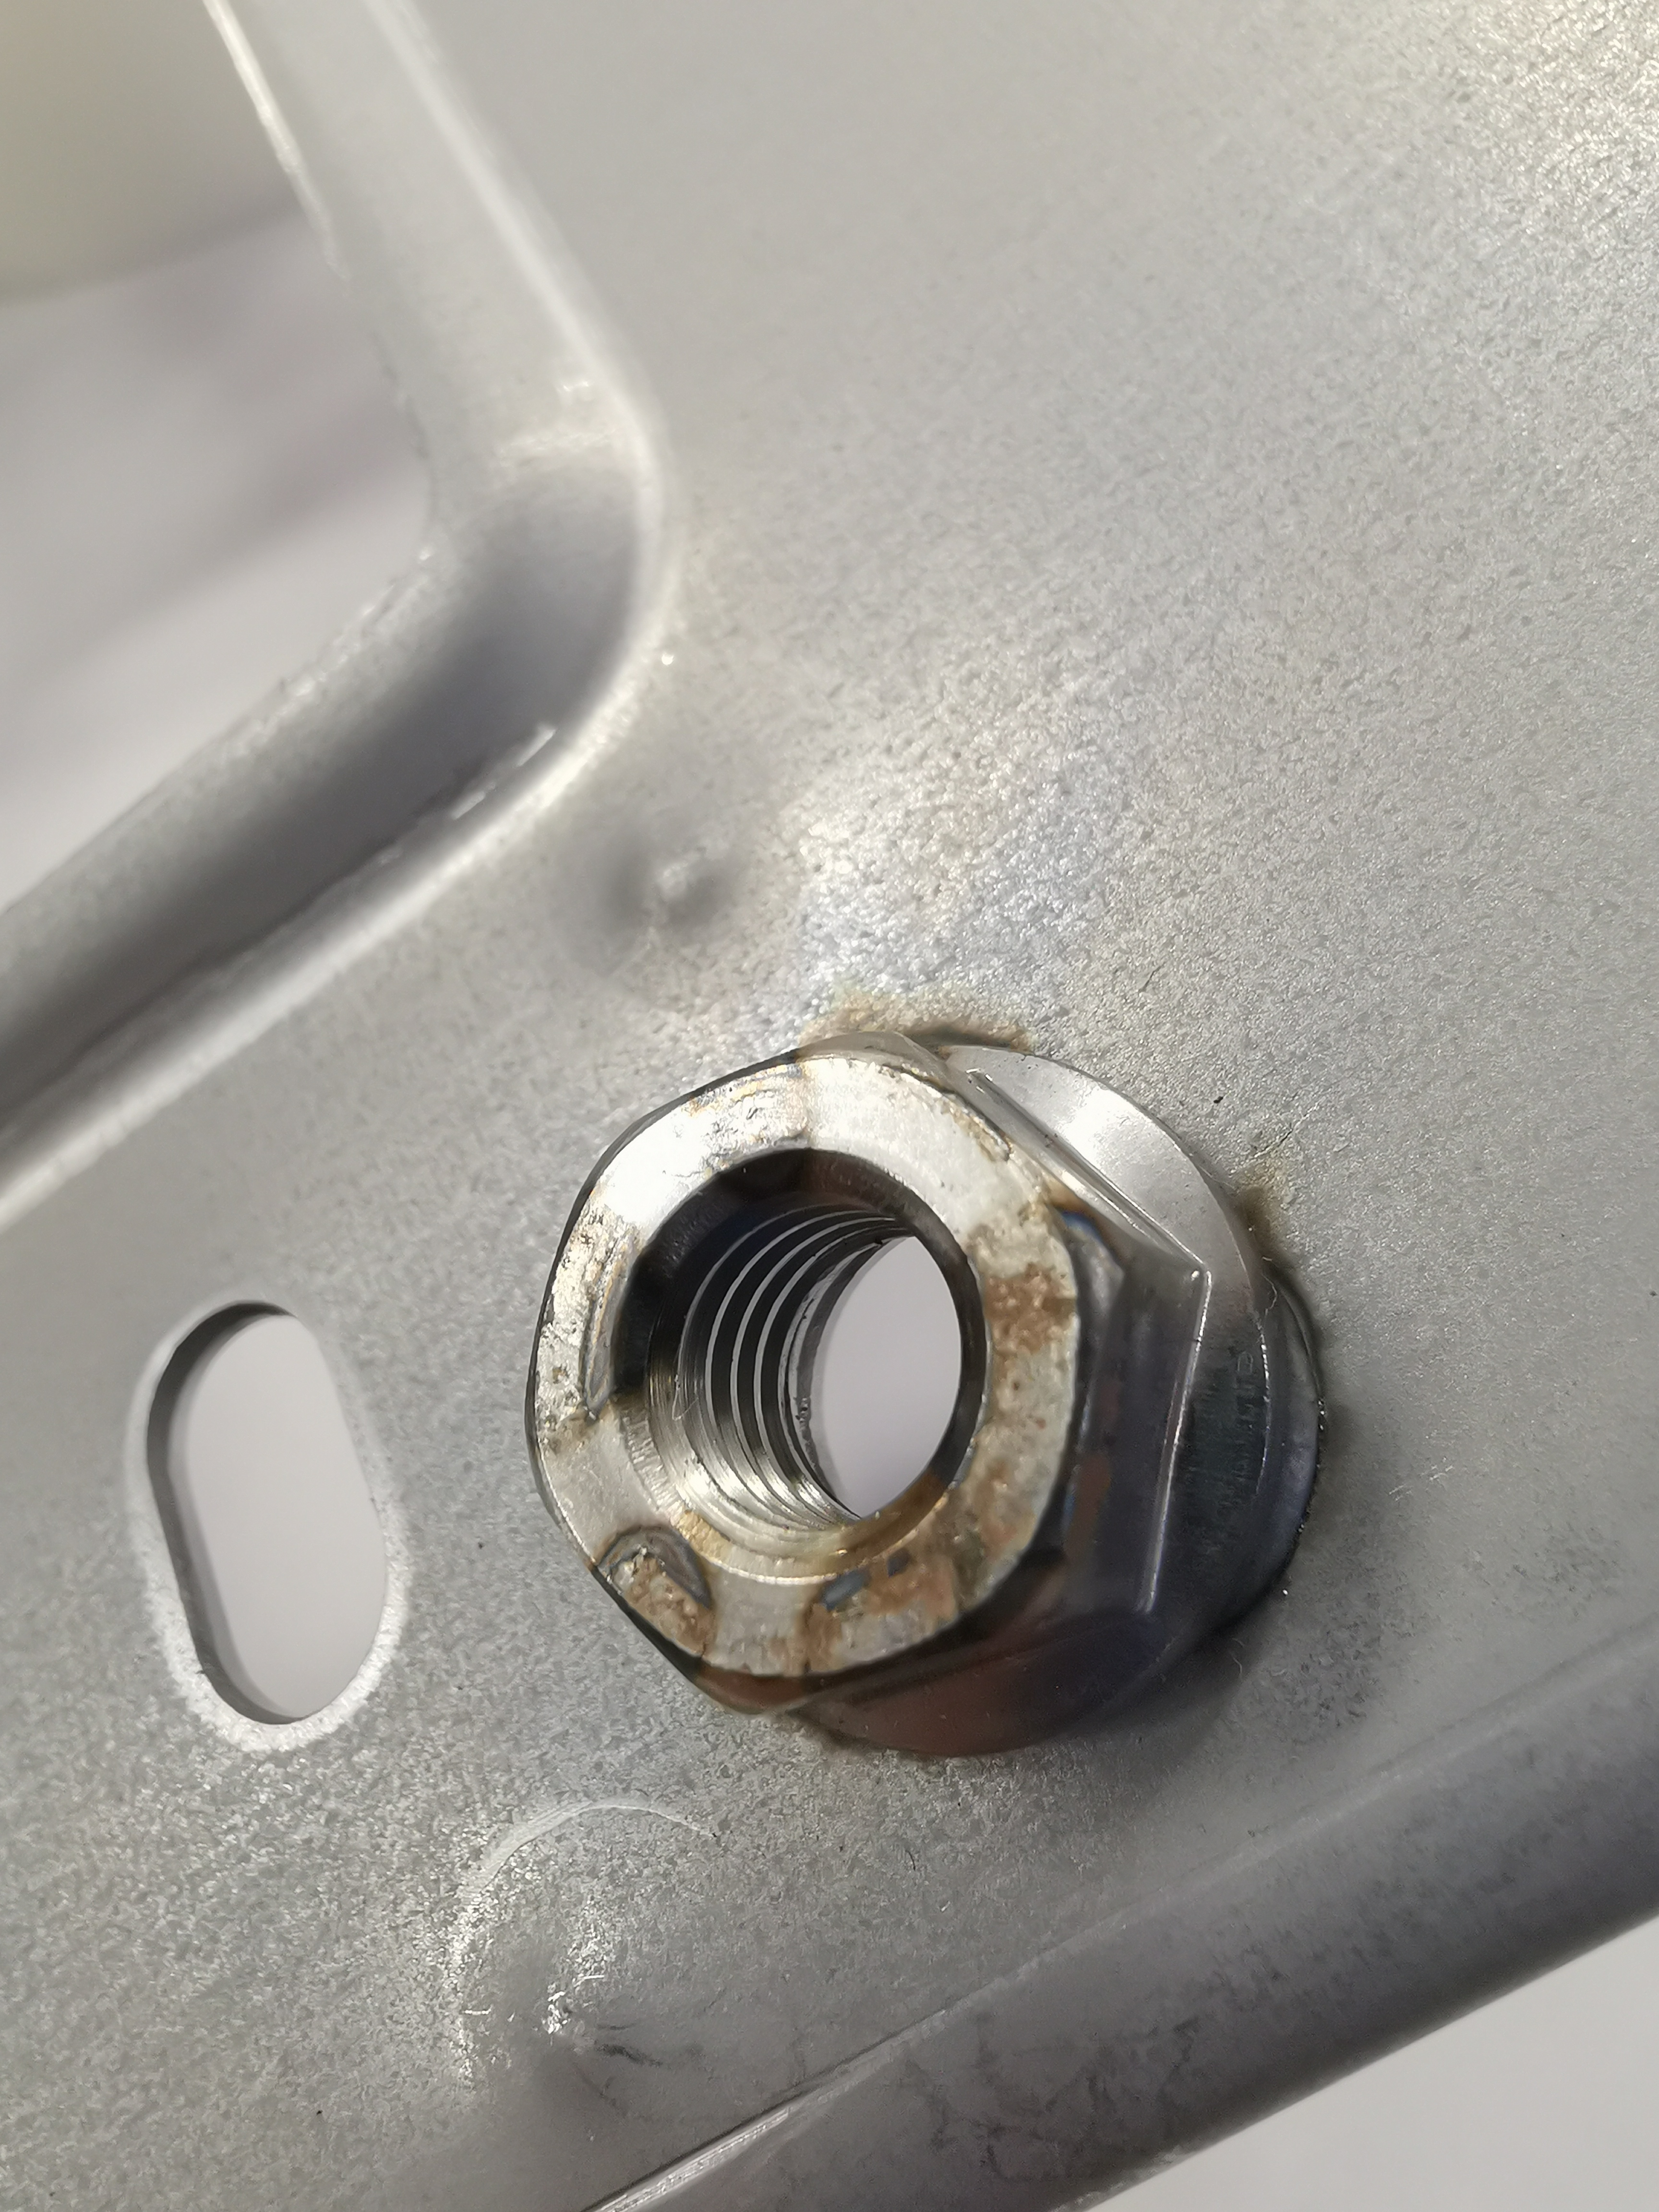dog: (511, 1005, 1342, 1784)
